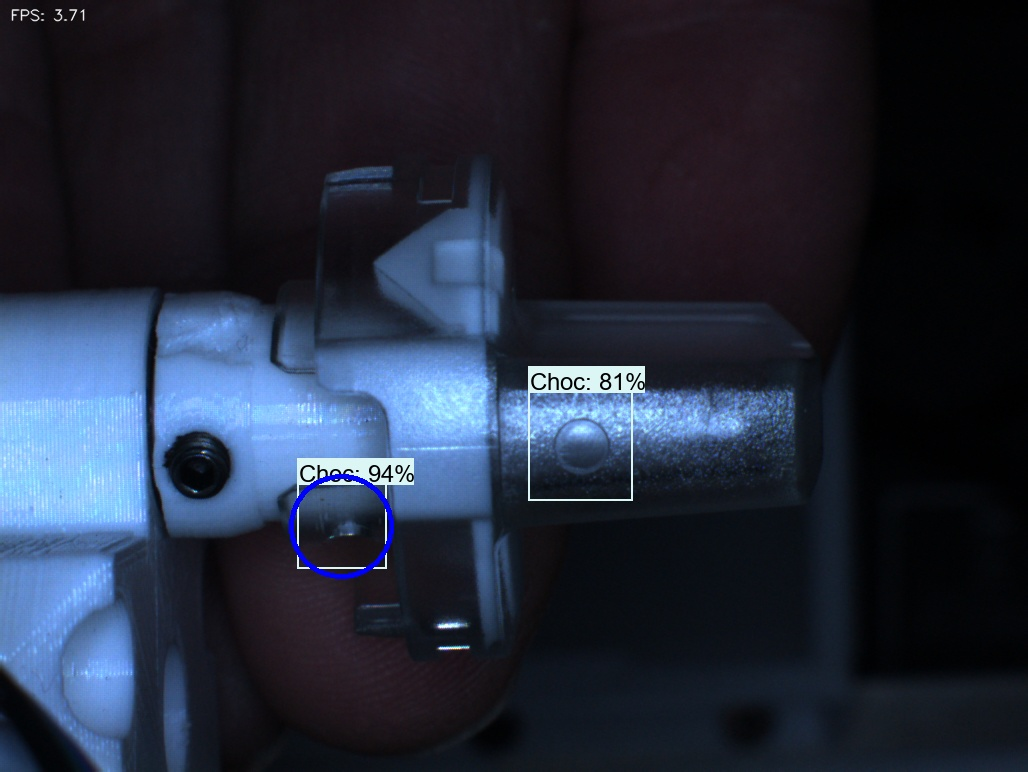DentOk: (343, 215, 420, 329)
